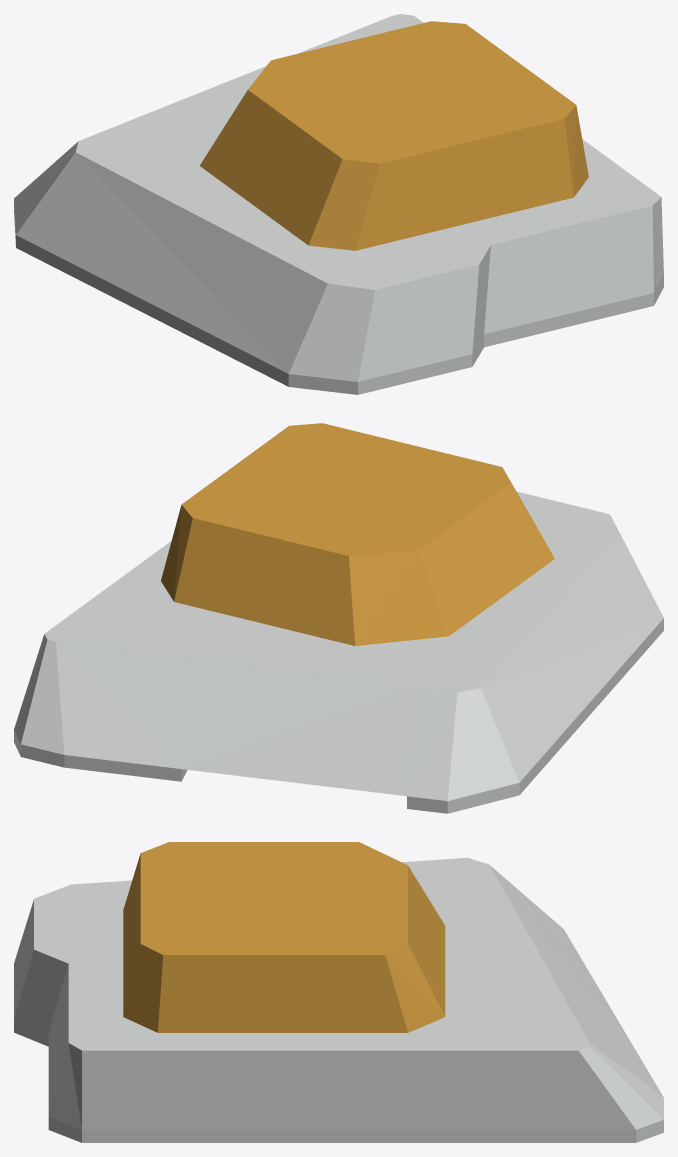
The model's file is rx78_object_025-lib.dae.
The picture shows the model from 3 angles, top to bottom: view 1: azimuth 30°, elevation 25°; view 2: azimuth 150°, elevation 25°; view 3: azimuth 270°, elevation 25°; orthographic projection. The views are drawn at different scales.
Visible parts, largest first — view 1: rx78_object_025Mesh-node; view 2: rx78_object_025Mesh-node; view 3: rx78_object_025Mesh-node.
Boxes of the visible parts, left/top/right/bottom form: rx78_object_025Mesh-node: left=14, top=14, right=663, bottom=394; rx78_object_025Mesh-node: left=14, top=423, right=663, bottom=813; rx78_object_025Mesh-node: left=14, top=842, right=663, bottom=1142.
Size of the model in its own units: 17.96 by 6.32 by 22.6.
